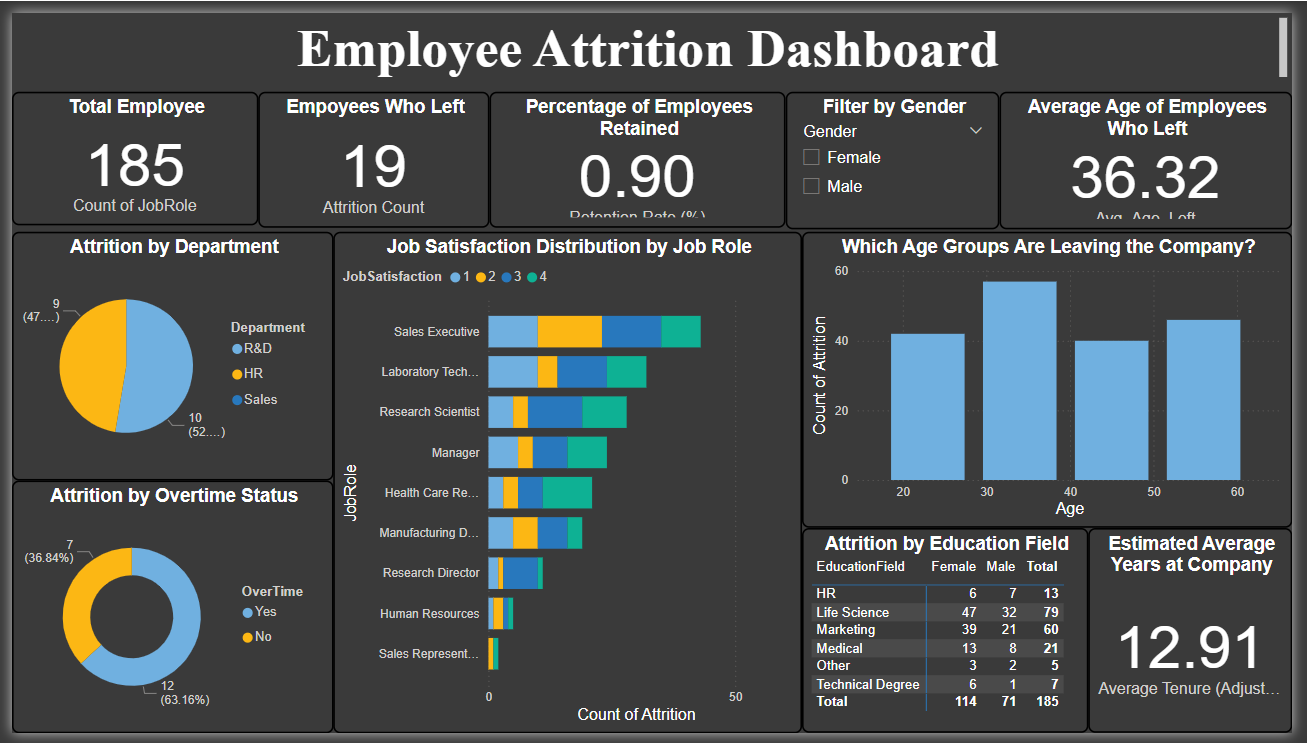

Layout of this report page (visuals, bound fields, positions):
{"tool":"powerbi","page":{"name":"Page 1","canvas":[1280,720],"ordinal":0},"visuals":[{"type":"textbox","box":[0,0,1280,70],"z":0},{"type":"card","title":"Total Employee","fields":{"Values":["CountNonNull(cleaned_hr_data.JobRole)"]},"box":[0,78.8,246.2,133.8],"z":1000},{"type":"card","title":"Empoyees Who Left","fields":{"Values":["cleaned_hr_data.Attrition Count"]},"box":[246.2,78.8,231.2,136.2],"z":2000},{"type":"pieChart","title":"Attrition by Department","fields":{"Y":["Sum(cleaned_hr_data.Attrition)"],"Category":["Department Map.Department"]},"box":[0,218.8,321.2,248.8],"z":3000},{"type":"barChart","title":"Job Satisfaction Distribution by Job Role","fields":{"Y":["CountNonNull(cleaned_hr_data.Attrition)"],"Category":["Table.JobRole"],"Series":["cleaned_hr_data.JobSatisfaction"]},"box":[321.2,218.8,468.8,501.2],"z":4000},{"type":"clusteredColumnChart","title":"Which Age Groups Are Leaving the Company?","fields":{"Category":["cleaned_hr_data.Age"],"Y":["CountNonNull(cleaned_hr_data.Attrition)"]},"box":[790,218.8,490,296.2],"z":5000},{"type":"card","title":"Percentage of Employees Retained","fields":{"Values":["cleaned_hr_data.Retention Rate (%)"]},"box":[477.5,78.8,296.2,136.2],"z":6000},{"type":"pivotTable","title":"Attrition by Education Field","fields":{"Rows":["cleaned_hr_data.EducationField"],"Values":["CountNonNull(cleaned_hr_data.Attrition)"],"Columns":["cleaned_hr_data.Gender"]},"box":[790,515,286.2,205],"z":7000},{"type":"donutChart","title":"Attrition by Overtime Status","fields":{"Category":["cleaned_hr_data.OverTime"],"Y":["Sum(cleaned_hr_data.Attrition)"]},"box":[0,467.5,321.2,252.5],"z":8000},{"type":"slicer","title":"Filter by Gender","fields":{"Values":["cleaned_hr_data.Gender"]},"box":[773.8,78.8,213.8,137.5],"z":9000},{"type":"card","title":"Average Age of Employees Who Left","fields":{"Values":["cleaned_hr_data.Avg_Age_Left"]},"box":[987.5,78.8,292.5,137.5],"z":10000},{"type":"card","title":"Estimated Average Years at Company","fields":{"Values":["cleaned_hr_data.Average Tenure (Adjusted)"]},"box":[1076.2,515,203.8,205],"z":11000}]}

Visuals, with their boxes in screenshot pixels (x1, y1, x2, y2), scaled from the page's 1280x720 canvas onto the 1307x743 screenshot:
textbox: 0,0,1306,72
"Total Employee" card: 0,81,251,219
"Empoyees Who Left" card: 251,81,487,222
"Attrition by Department" pieChart: 0,226,328,483
"Job Satisfaction Distribution by Job Role" barChart: 328,226,807,742
"Which Age Groups Are Leaving the Company?" clusteredColumnChart: 807,226,1306,531
"Percentage of Employees Retained" card: 488,81,790,222
"Attrition by Education Field" pivotTable: 807,531,1099,742
"Attrition by Overtime Status" donutChart: 0,482,328,742
"Filter by Gender" slicer: 790,81,1008,223
"Average Age of Employees Who Left" card: 1008,81,1306,223
"Estimated Average Years at Company" card: 1099,531,1306,742
